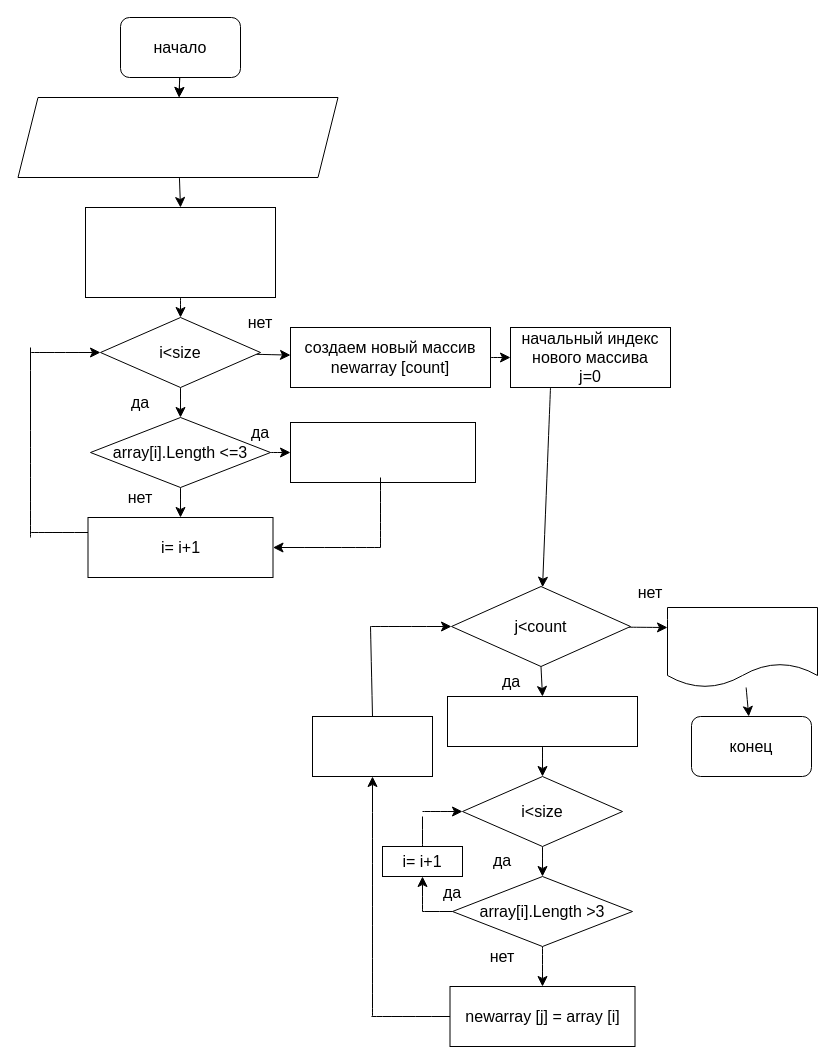
Image size: 835x1064. Some labels were removed from this diagram. The box of each missing label's shape, as (x1, y1, x2, y2) in pixels:
count = count + 1: (290, 422, 476, 482)
j=j+1 i=i+1: (312, 716, 432, 776)
вывод (печать) newarray [count]: (666, 606, 818, 688)
длинна нового массива count = 0 начальный индекс i=0: (84, 206, 276, 298)
задан массив array = [“Hello”, “2”, “world”, “:-)”] размер массива size = 4: (17, 96, 338, 178)
начальный индекс i=0: (446, 696, 638, 746)
